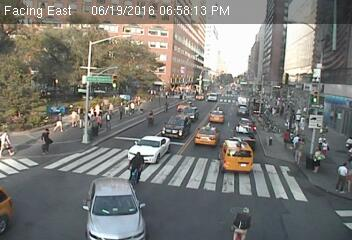neg: (118, 145, 155, 194), (226, 201, 254, 239), (298, 42, 323, 75), (201, 114, 222, 142), (29, 190, 49, 217), (279, 61, 299, 88), (132, 32, 150, 56), (69, 61, 86, 85), (141, 106, 158, 129), (198, 41, 215, 63), (21, 71, 36, 92), (178, 36, 193, 55), (238, 102, 252, 121), (178, 103, 191, 120), (160, 96, 171, 112), (210, 94, 218, 105), (164, 76, 172, 86), (299, 85, 307, 95), (197, 75, 203, 83)
pos: (285, 132, 313, 168), (327, 158, 351, 198), (305, 144, 329, 176), (311, 129, 332, 158), (36, 126, 57, 154), (49, 108, 68, 133), (279, 127, 296, 149), (113, 100, 129, 122), (100, 112, 116, 133), (67, 107, 82, 128), (104, 99, 118, 117), (125, 98, 138, 115)
